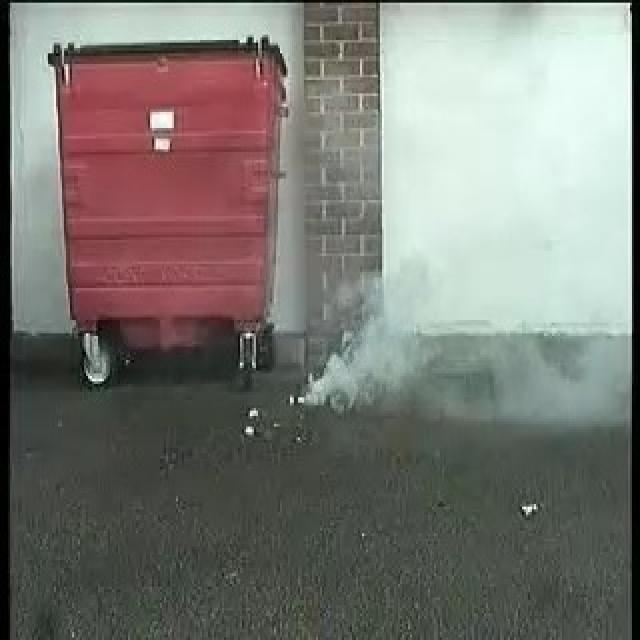smoke: (311, 288, 612, 419)
